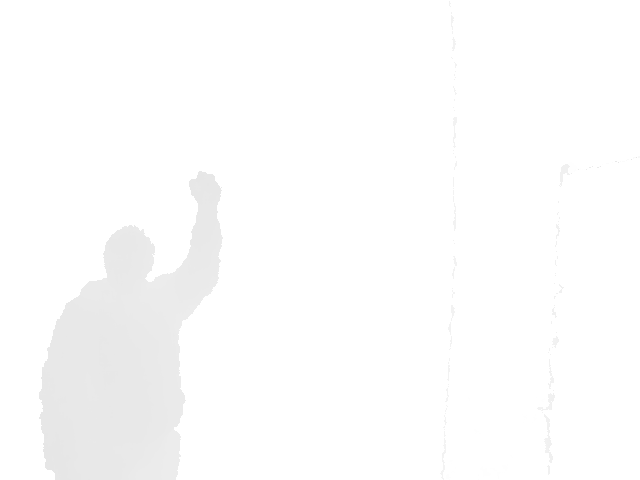hand: (188, 169, 223, 211)
head: (101, 223, 156, 284)
person: (37, 170, 224, 480)
